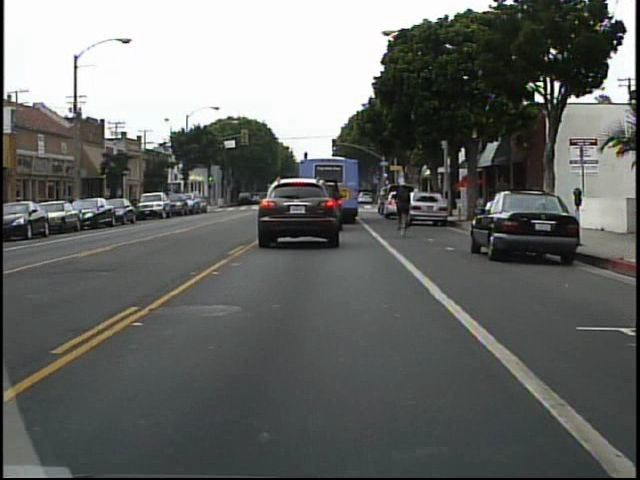person: (394, 178, 416, 235)
